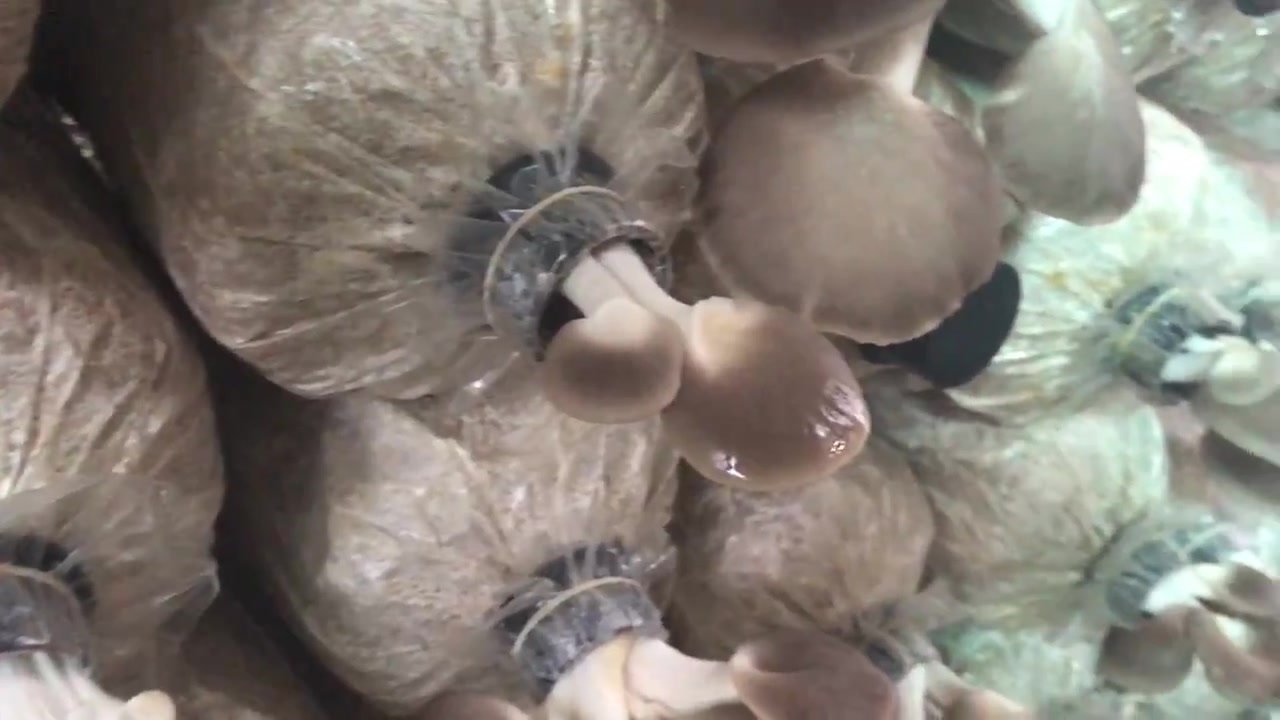nam: (661, 1, 1143, 355), (488, 160, 871, 496), (508, 571, 895, 720), (1098, 527, 1280, 708), (860, 623, 1042, 720)
